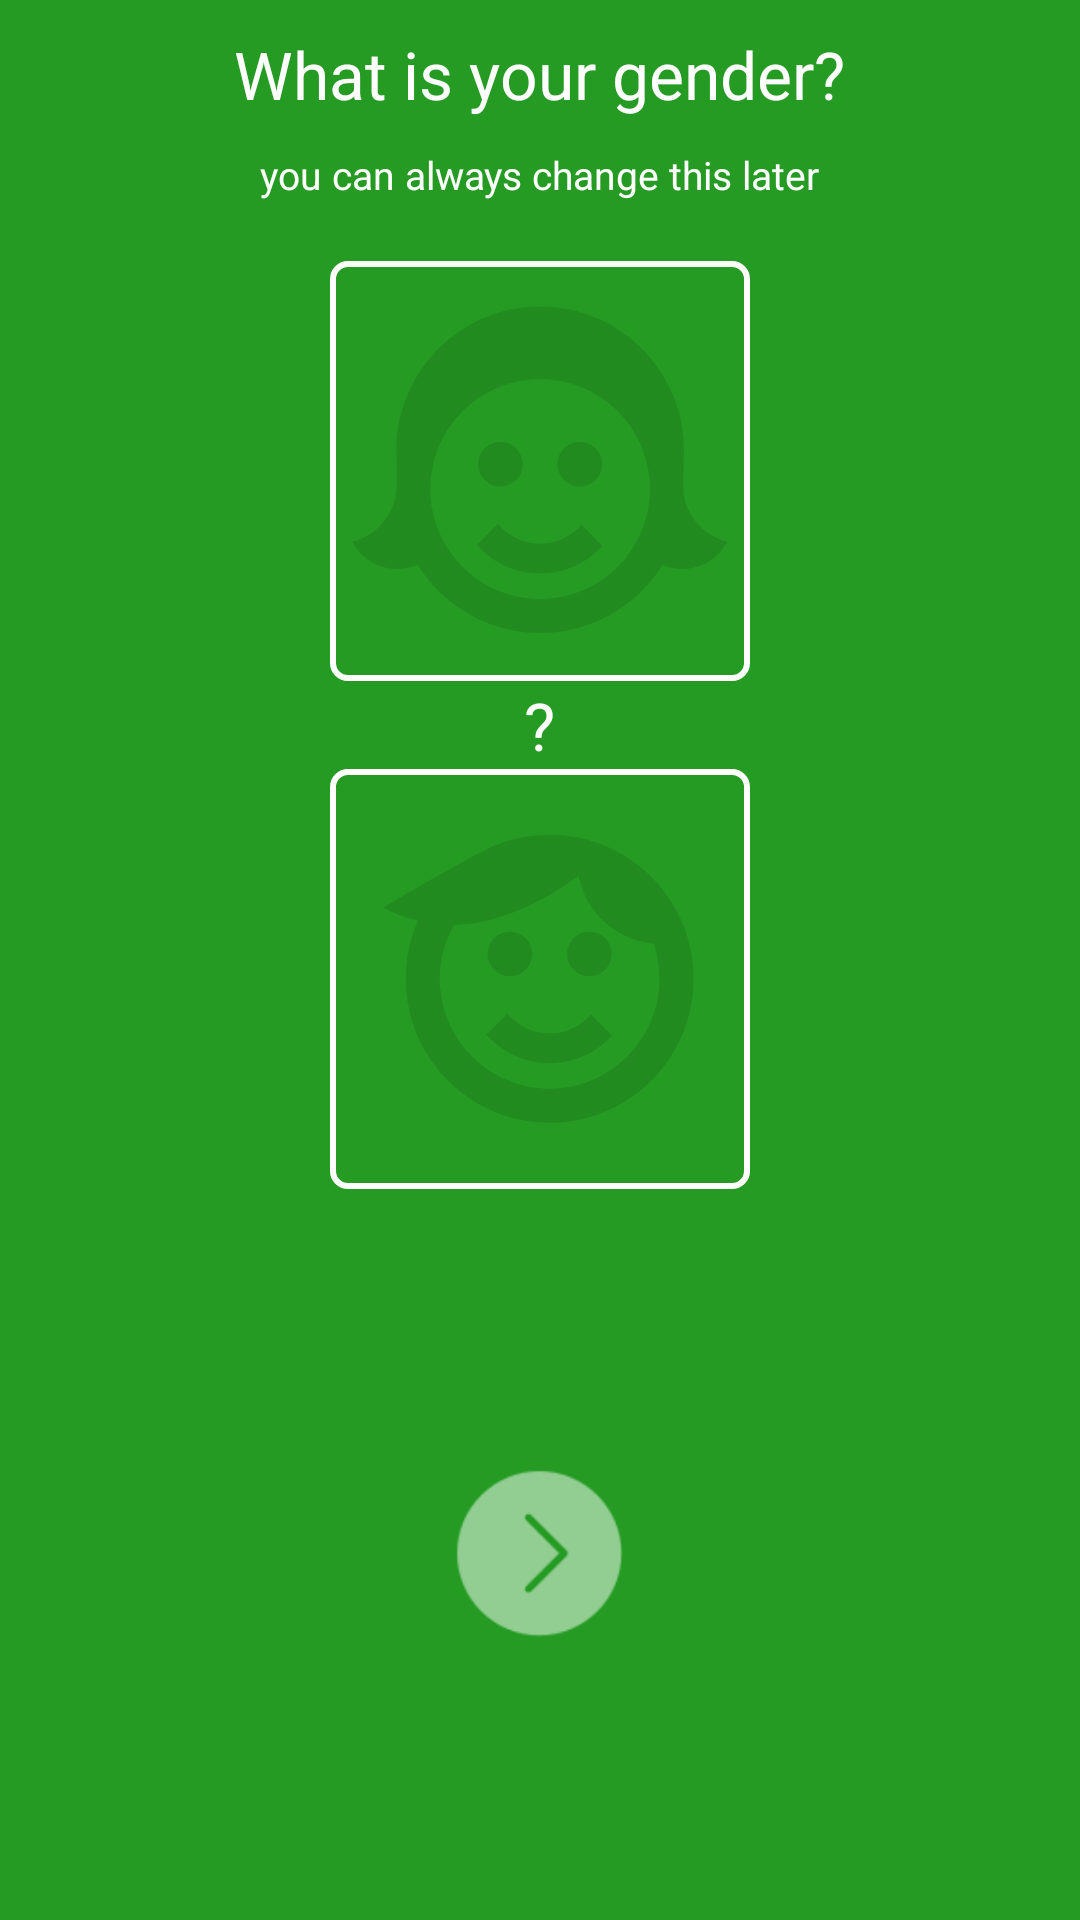

Named icons in this screenshot (1080 x 1920) and their centers, point (x, y):
next page: point (539, 1553)
